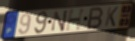9: (33, 11, 49, 35), (18, 13, 32, 36)
B: (85, 6, 104, 31)
H: (65, 7, 87, 32)
K: (104, 6, 120, 28)
N: (51, 10, 69, 33)
